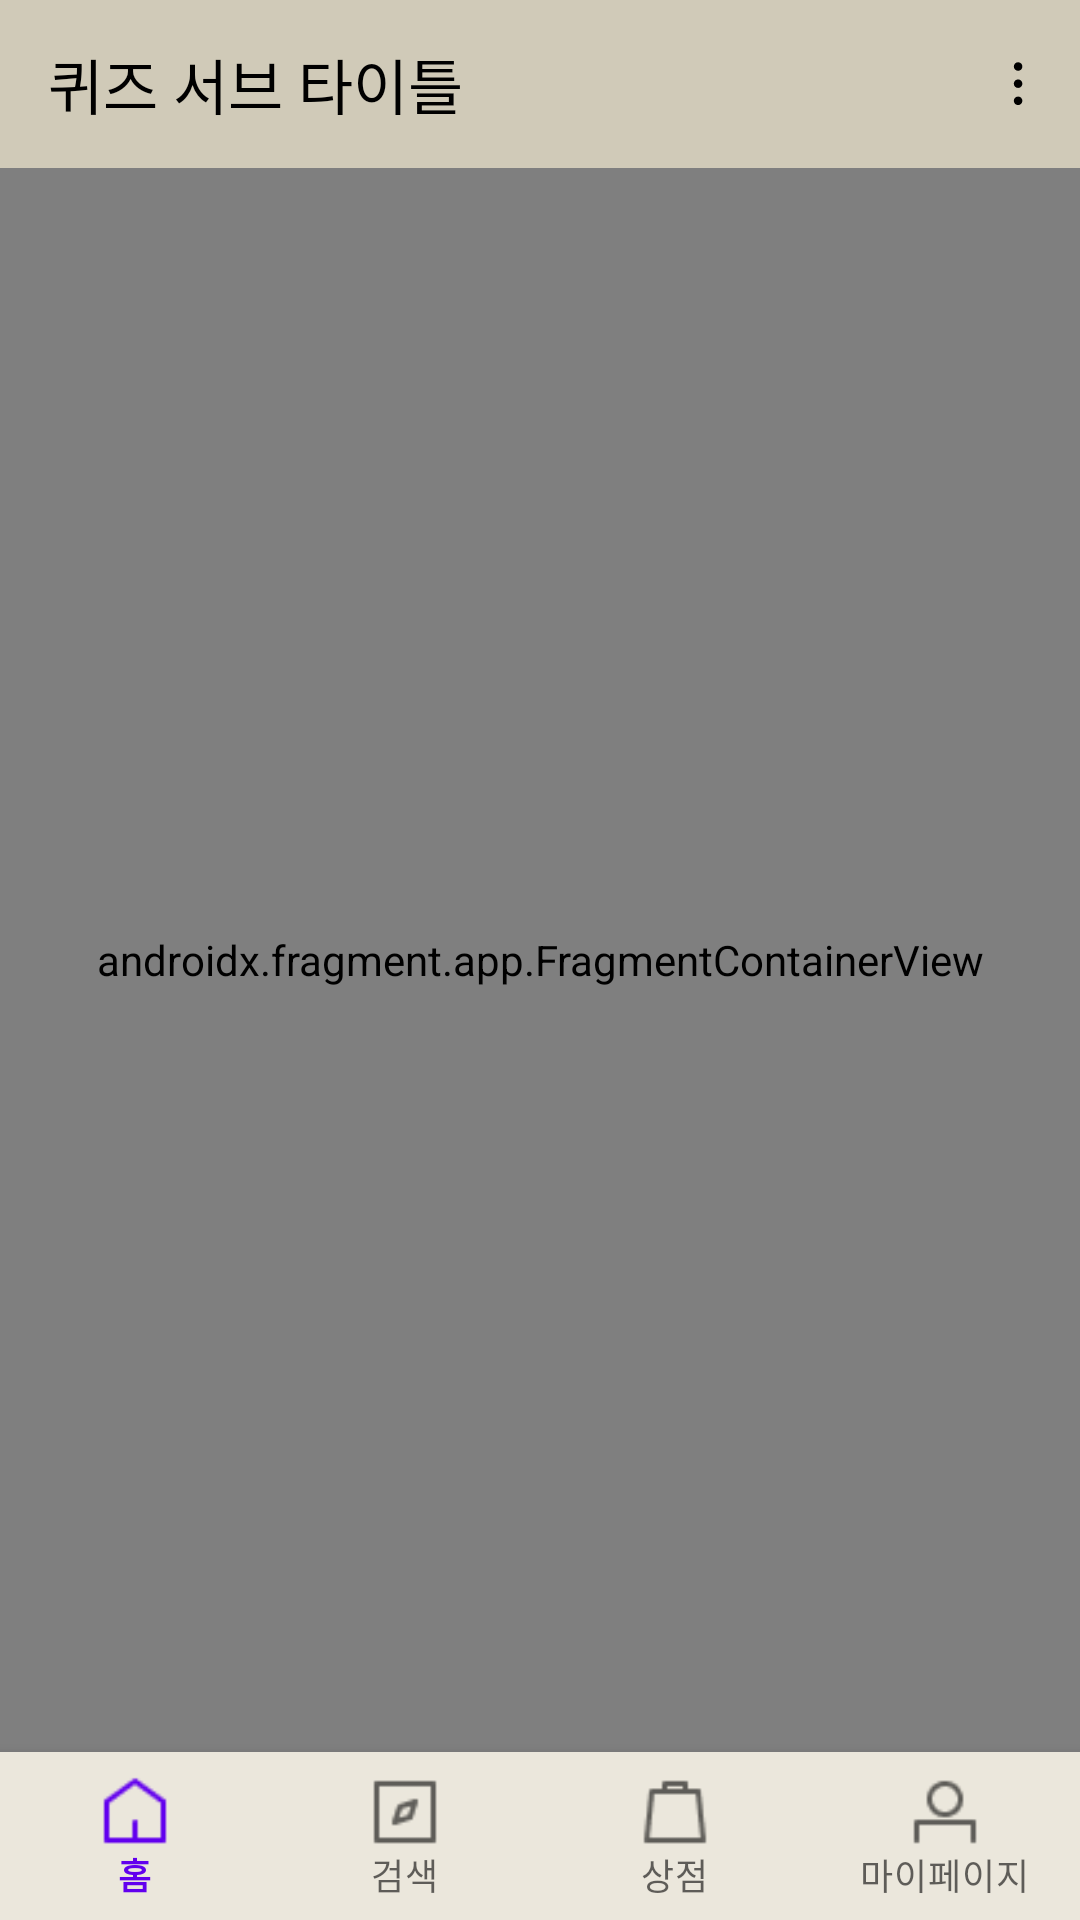

Point at icon controls on the screen. Image size 1080px×1920px, points as (x=x, y=y).
more: (x=1018, y=83)
